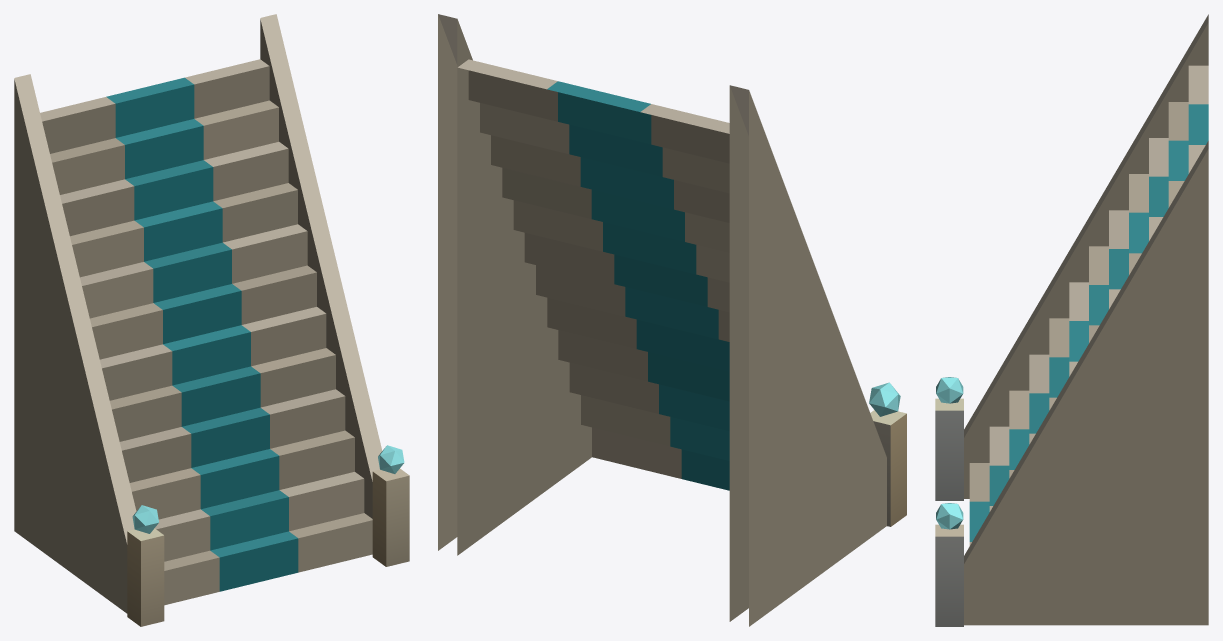
Rendered from spire_ramp.glb.
3 views of the same model, side by side, from view 1: azimuth 30°, elevation 25°; view 2: azimuth 150°, elevation 25°; view 3: azimuth 270°, elevation 25° (orthographic). The views are drawn at different scales.
Visible parts, largest first — view 1: spire_ramp; view 2: spire_ramp; view 3: spire_ramp.
Part boxes in pixels (x1=…): spire_ramp: x1=14, y1=14, x2=409, y2=626; spire_ramp: x1=438, y1=14, x2=906, y2=626; spire_ramp: x1=935, y1=14, x2=1208, y2=626.
Bounding box in the file's own units: 4.1 × 6.6 × 3.43.
